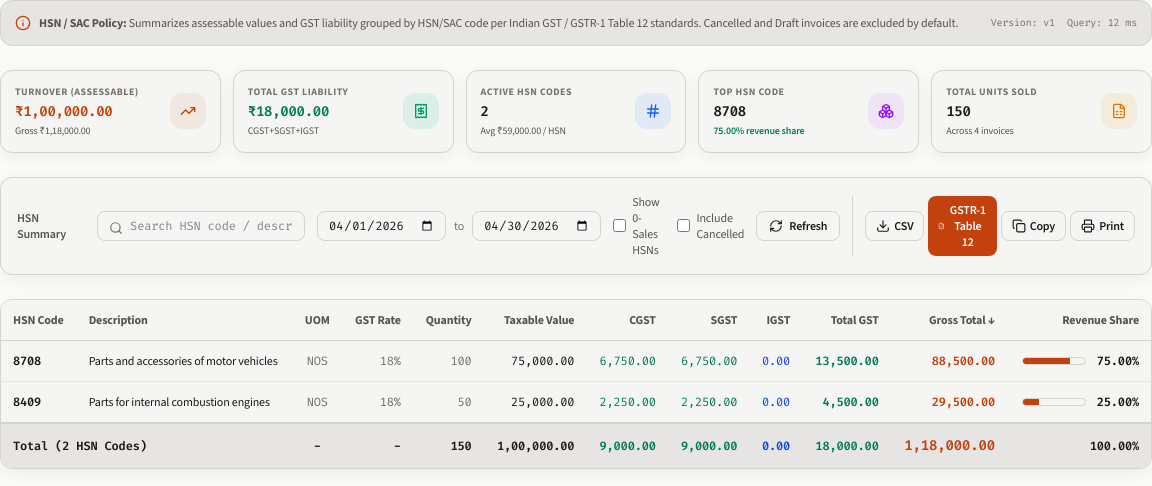
Test case: HsnWiseReportTab Component › 4. Filters table rows on text search
Expected: the row with test id "hsn-row-8708" is shown, [1,340,1151,381]
Expected: the row with test id "hsn-row-8409" is shown, [1,381,1151,423]
Type "8409" into the field with test id "hsn-search-input" at (201, 226), box [97,211,305,241]
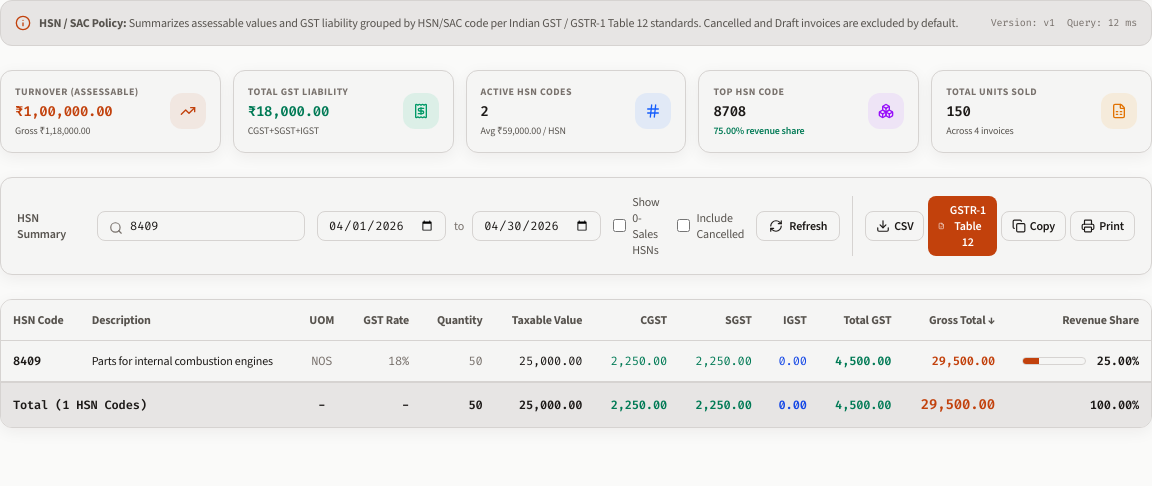
Expected: the row with test id "hsn-row-8409" is shown, [1,340,1151,382]
